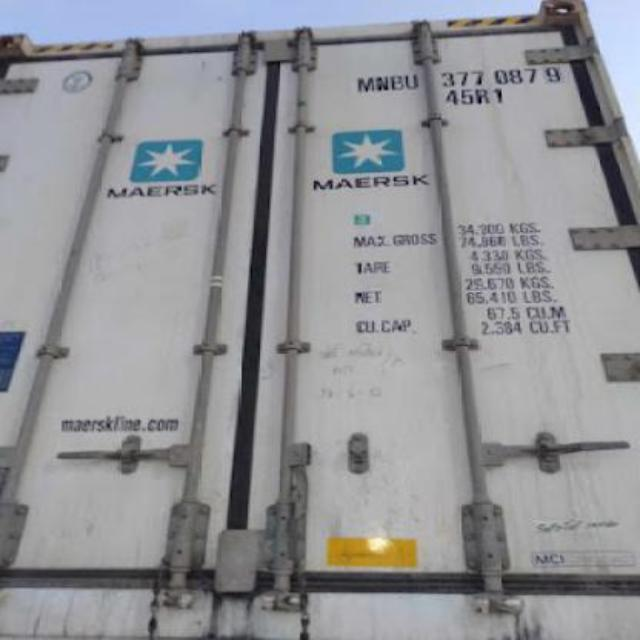0: (492, 66, 508, 86)
3: (440, 69, 456, 87)
7: (526, 64, 540, 84), (472, 67, 484, 87), (458, 69, 470, 85)
8: (511, 67, 524, 87)
9: (544, 64, 562, 84)
B: (391, 74, 404, 90)
M: (356, 75, 374, 93)
N: (376, 73, 389, 91)
U: (406, 75, 418, 88)
